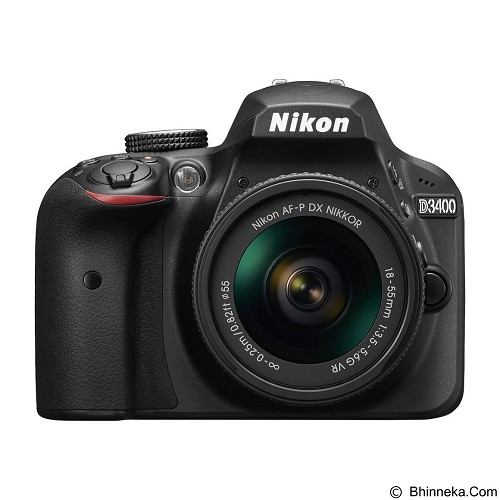kamera: (29, 71, 471, 428)
